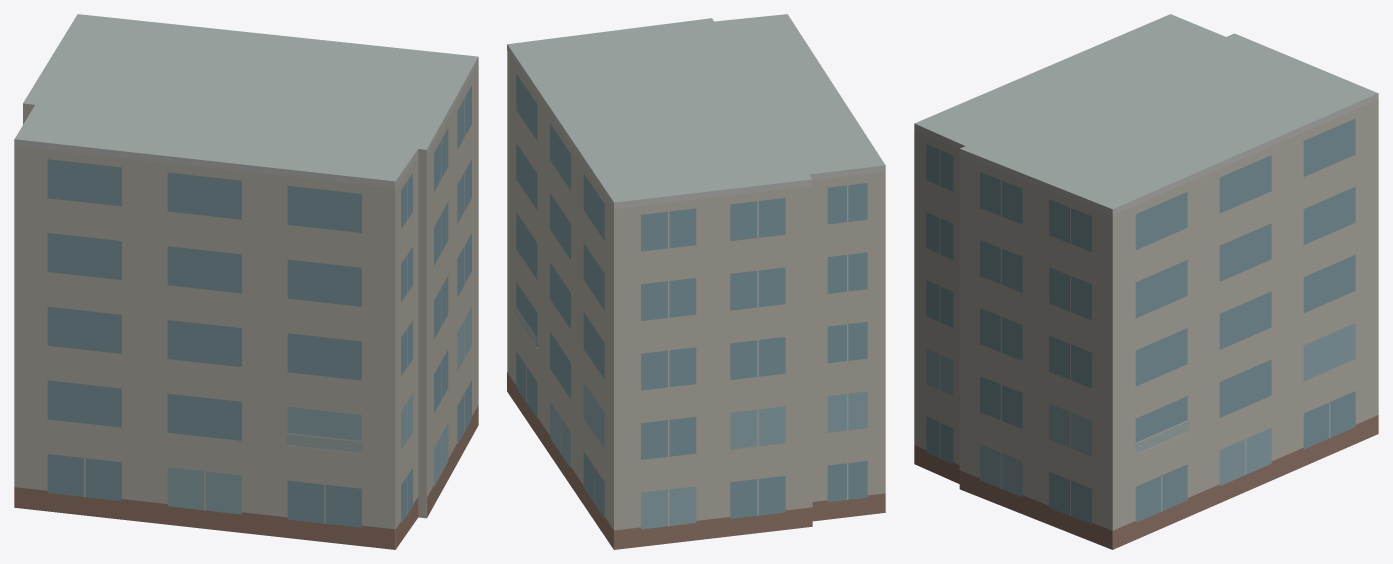
Rendered from survey-upis-32970564.glb.
3 renders of one model, left to right at view 1: azimuth 30°, elevation 25°; view 2: azimuth 150°, elevation 25°; view 3: azimuth 270°, elevation 25°, orthographic. The views are drawn at different scales.
Parts seen in each view (by area): view 1: survey-upis-32970564.tmp; view 2: survey-upis-32970564.tmp; view 3: survey-upis-32970564.tmp.
Part boxes in pixels (<box>): survey-upis-32970564.tmp: <box>14,14,478,549</box>; survey-upis-32970564.tmp: <box>507,14,885,549</box>; survey-upis-32970564.tmp: <box>914,14,1378,549</box>.
Bounding box in the file's own units: 16.23 × 13.2 × 16.3.
